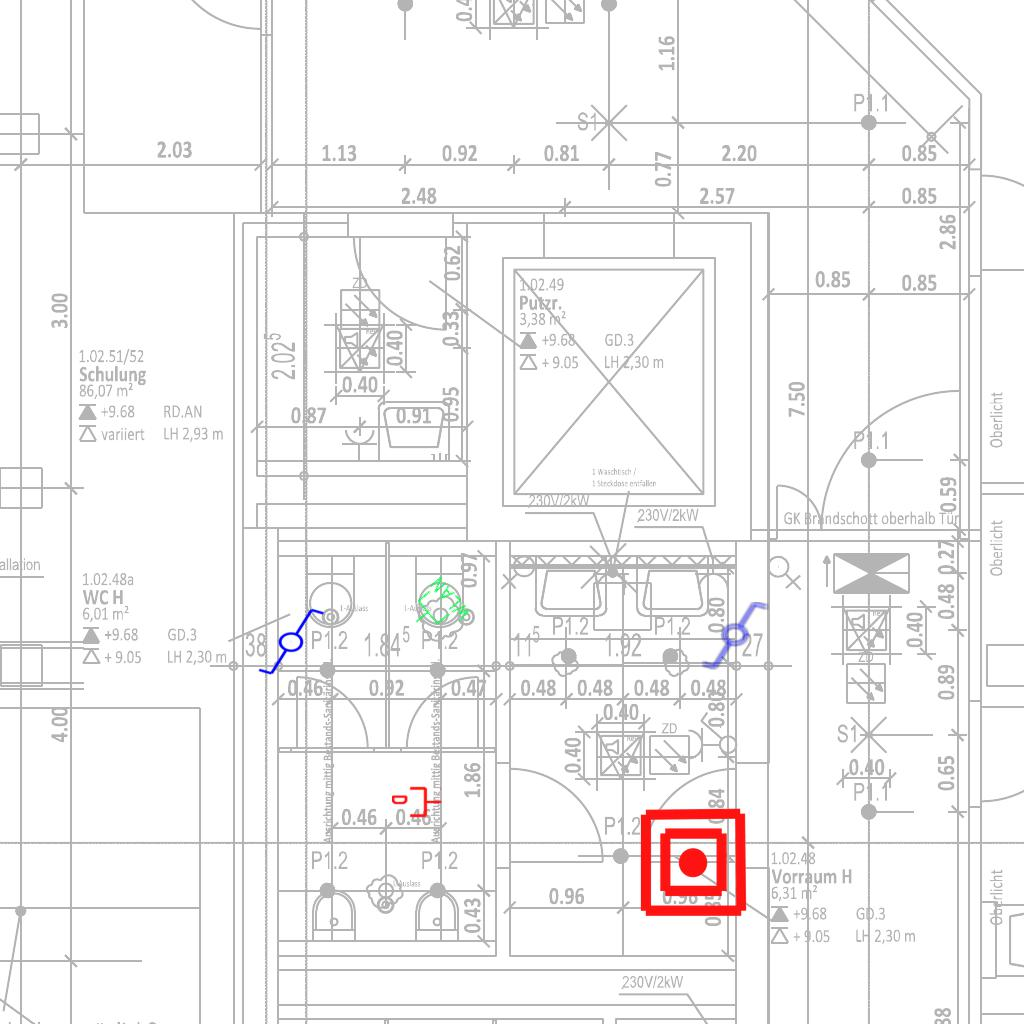Datenanschluss_einfach: (392, 785, 442, 819)
NAM-Nichtautomatischer_Melder: (637, 806, 750, 919)
WLAN: (401, 573, 475, 647)
Wechselschalter: (700, 600, 778, 672), (248, 605, 326, 677)
